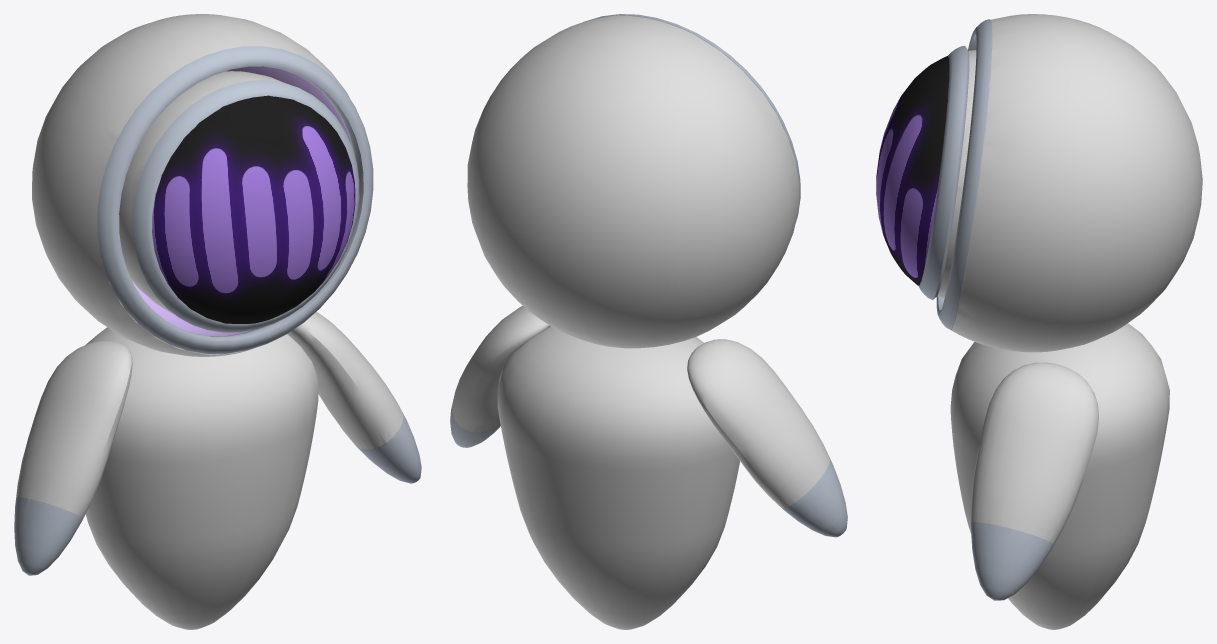
File: sonya.gltf
The picture shows the model from 3 angles, left to right: view 1: azimuth 30°, elevation 25°; view 2: azimuth 150°, elevation 25°; view 3: azimuth 270°, elevation 25°; orthographic projection. The views are drawn at different scales.
Visible parts, largest first — view 1: Capsule (×5), Screen, Sphere.2-Cube, Border, BorderInner, Sphere, Sphere.3; view 2: Sphere.2-Cube, Capsule (×5), Border; view 3: Sphere.2-Cube, Capsule (×3), Screen, Border, BorderInner, Sphere.
Boxes of the visible parts, left/top/right/bottom form: Capsule (×5): left=14, top=311, right=421, bottom=629; Screen: left=152, top=95, right=355, bottom=323; Sphere.2-Cube: left=32, top=14, right=349, bottom=356; Border: left=97, top=46, right=373, bottom=353; BorderInner: left=133, top=80, right=359, bottom=332; Sphere: left=119, top=71, right=284, bottom=314; Sphere.3: left=132, top=66, right=351, bottom=335; Sphere.2-Cube: left=467, top=15, right=799, bottom=348; Capsule (×5): left=450, top=306, right=847, bottom=629; Border: left=585, top=14, right=800, bottom=222; Sphere.2-Cube: left=950, top=14, right=1202, bottom=352; Capsule (×3): left=950, top=323, right=1169, bottom=629; Screen: left=876, top=56, right=949, bottom=285; Border: left=936, top=19, right=992, bottom=329; BorderInner: left=918, top=45, right=969, bottom=299; Sphere: left=937, top=50, right=976, bottom=298.
Bounding box in the file's own units: 188 × 274 × 136.
4 materials, 1 textured.
